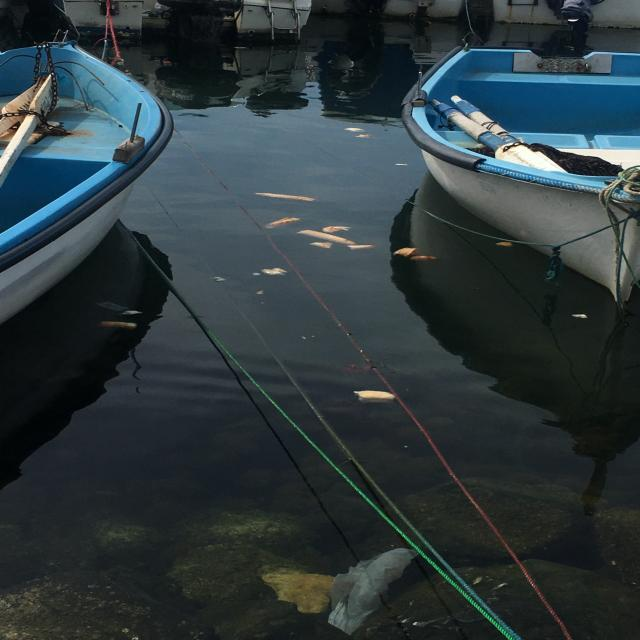Plastic bag: (316, 546, 422, 636)
